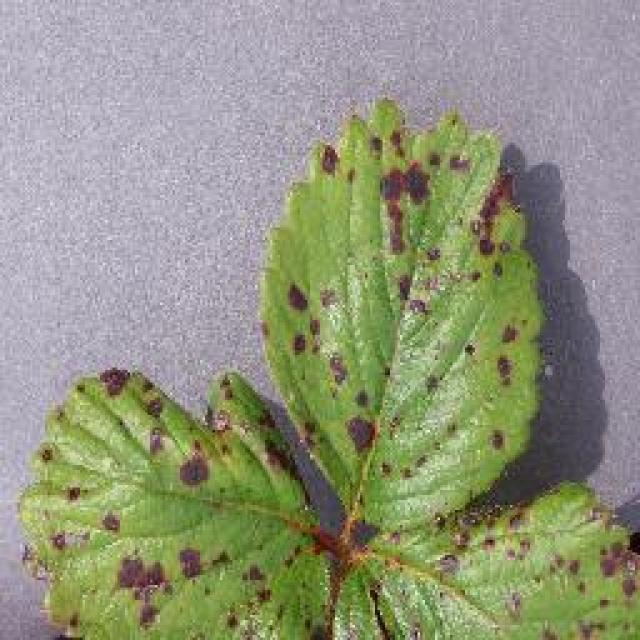Strawberry___Leaf_scorch: (7, 141, 611, 568)
